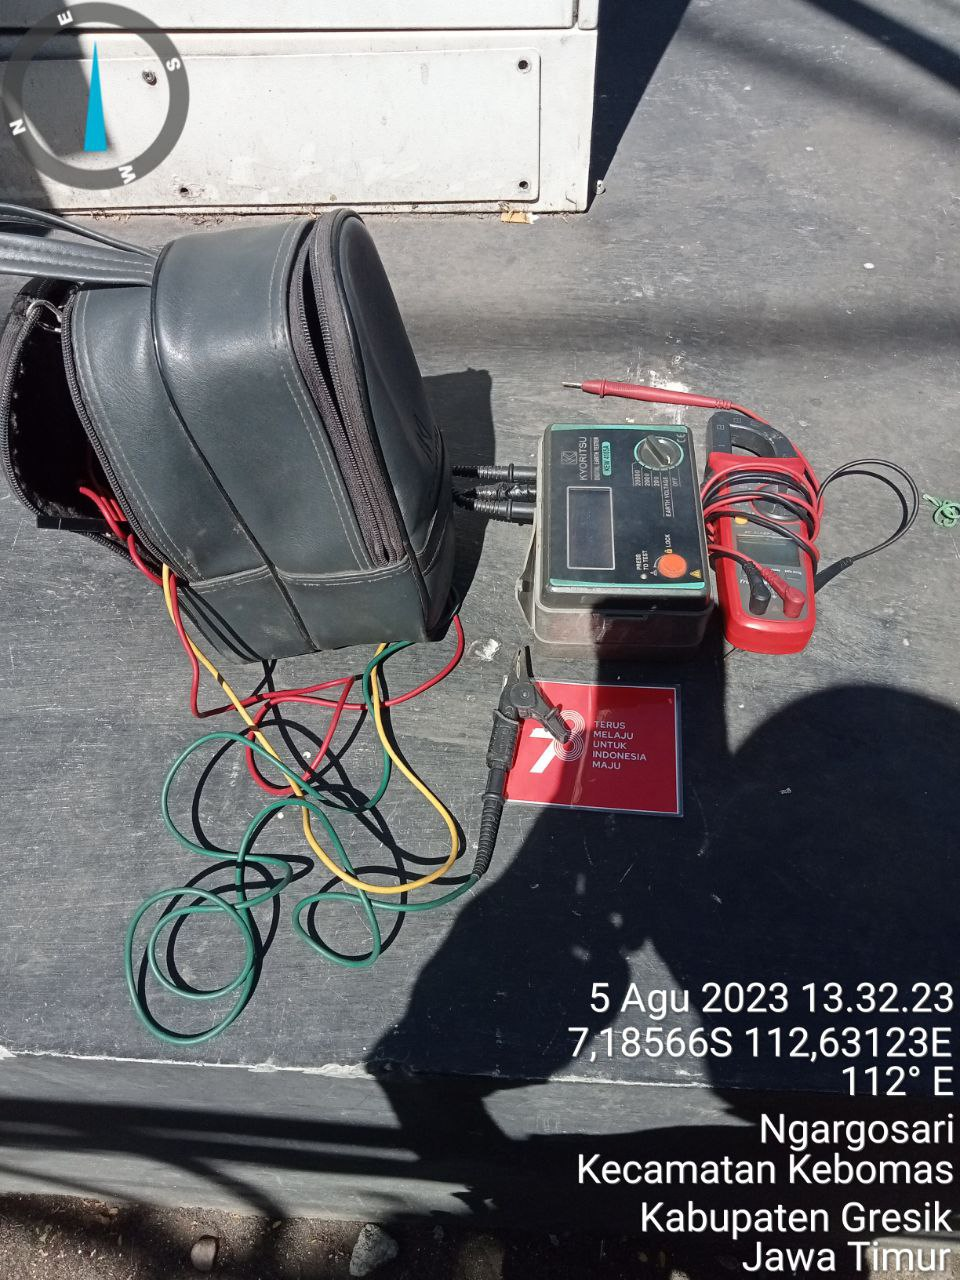EARTH_GROUNDING_TESTER: (520, 420, 711, 661)
TANG_AMPERE: (704, 410, 823, 657)
